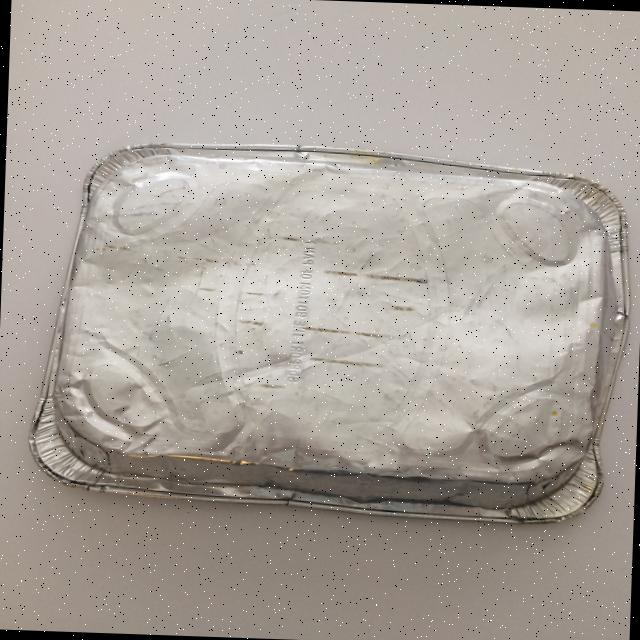metal: (25, 135, 635, 527)
